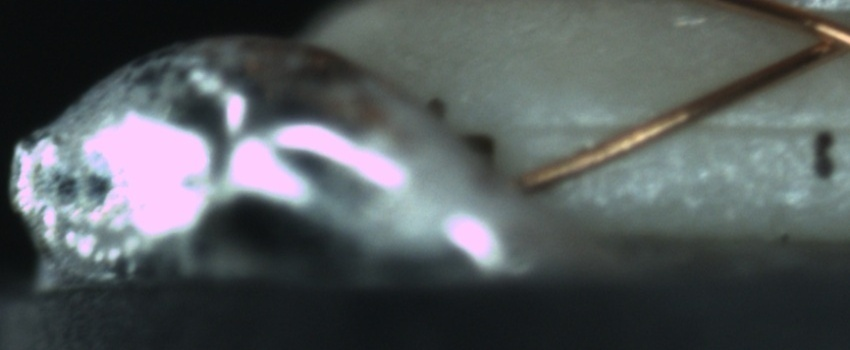CL: (792, 6, 849, 64)
DL: (530, 96, 841, 157)
